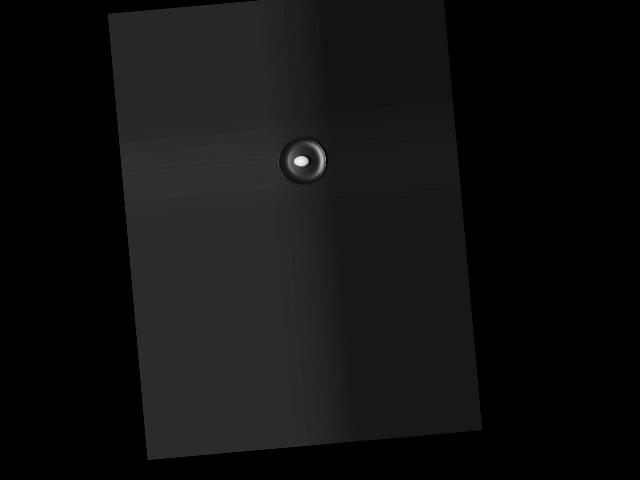egg: (293, 155, 309, 167)
